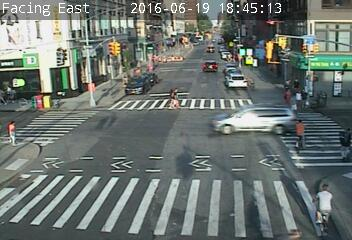neg: (288, 31, 314, 65), (209, 47, 232, 78), (256, 36, 278, 65), (127, 62, 147, 88), (190, 49, 206, 69)
pos: (286, 118, 312, 154), (325, 124, 350, 159), (2, 119, 23, 147)
